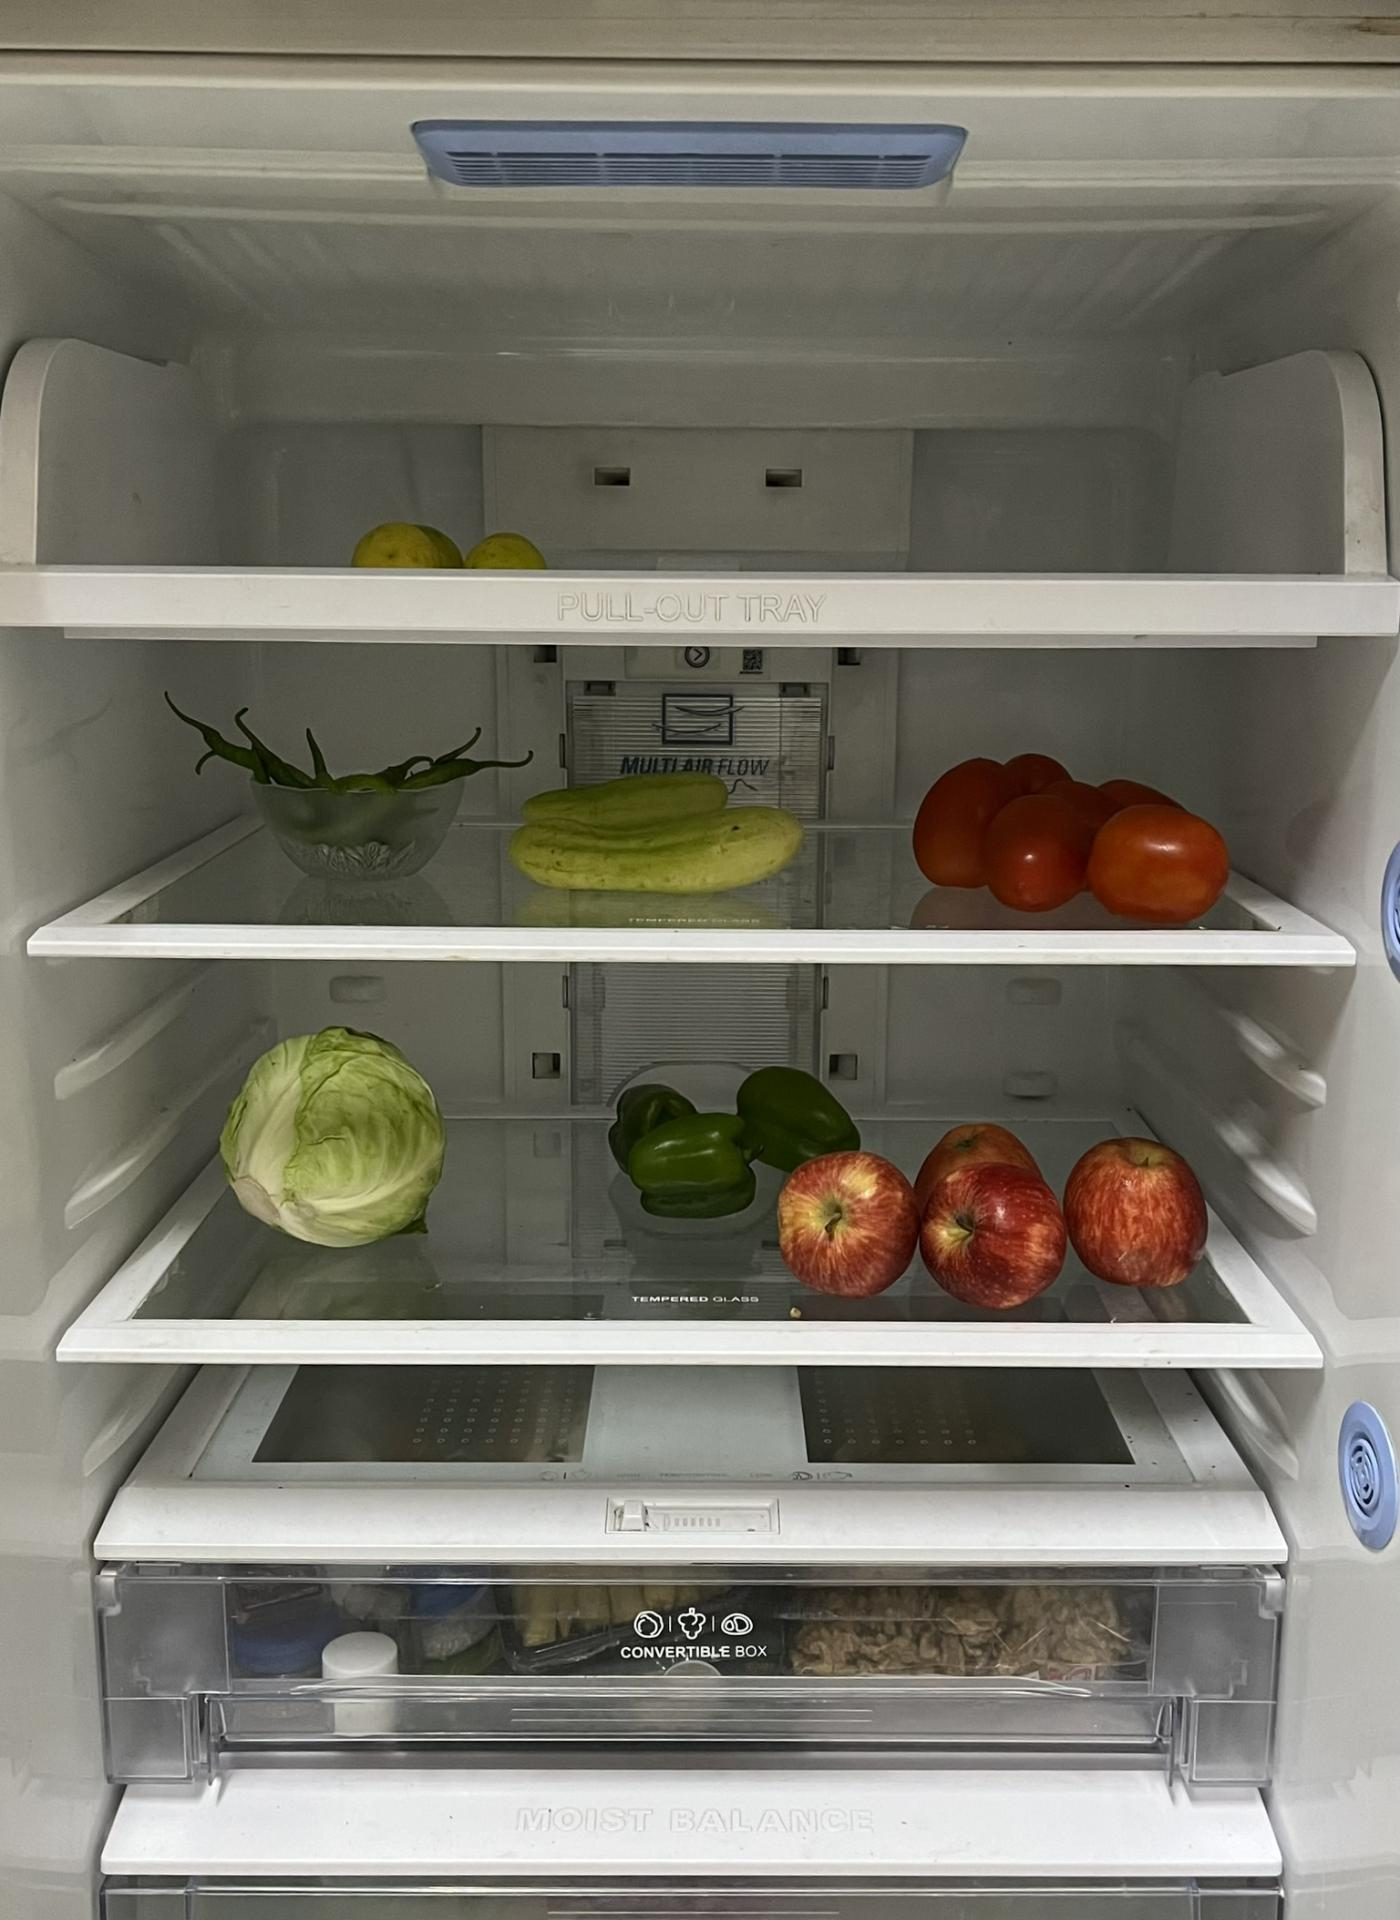apple: (778, 1114, 1203, 1298)
cabbage: (218, 1027, 446, 1252)
capsicum: (604, 1070, 853, 1224)
chillies: (174, 705, 486, 847)
cucumber: (505, 783, 805, 896)
lemon: (358, 523, 556, 569)
tomato: (912, 753, 1229, 921)
